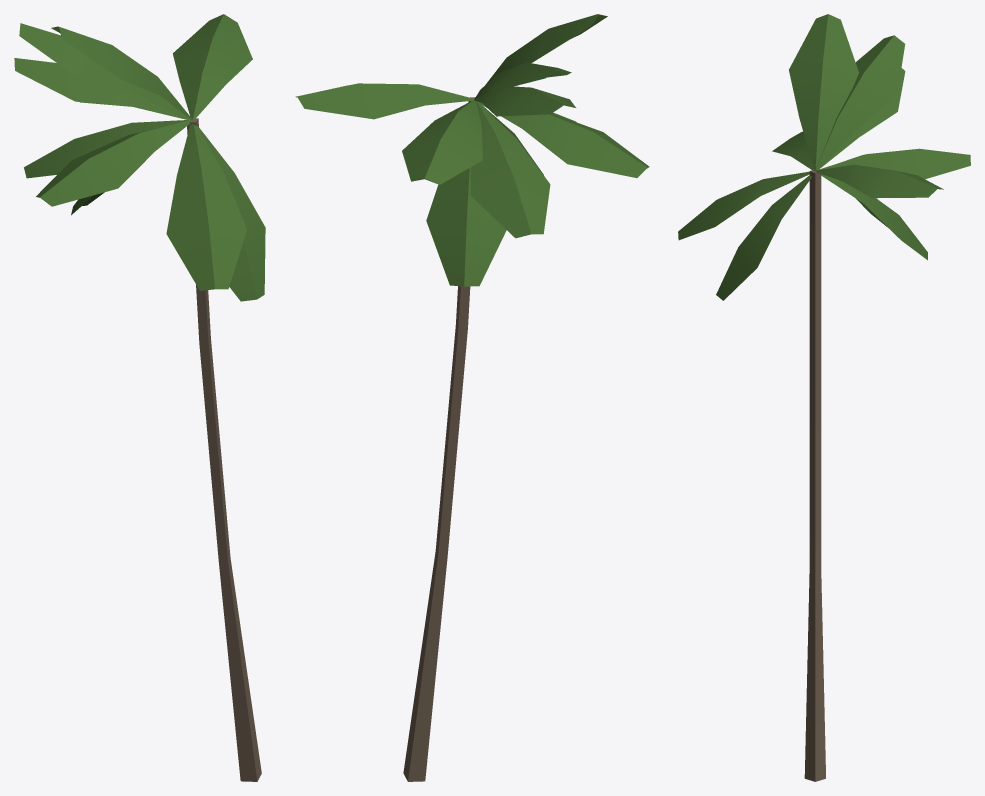
The model's file is coconut_palm.far.glb.
The picture shows the model from 3 angles, left to right: view 1: azimuth 30°, elevation 25°; view 2: azimuth 150°, elevation 25°; view 3: azimuth 270°, elevation 25°; orthographic projection. The views are drawn at different scales.
Visible parts, largest first — view 1: coconut_palm; view 2: coconut_palm; view 3: coconut_palm.
Part boxes in pixels (x1,y1,x2,y2): coconut_palm: (14, 14, 265, 781); coconut_palm: (295, 14, 649, 781); coconut_palm: (678, 14, 970, 781).
Bounding box in the file's own units: 7.58 × 21.23 × 8.2.
